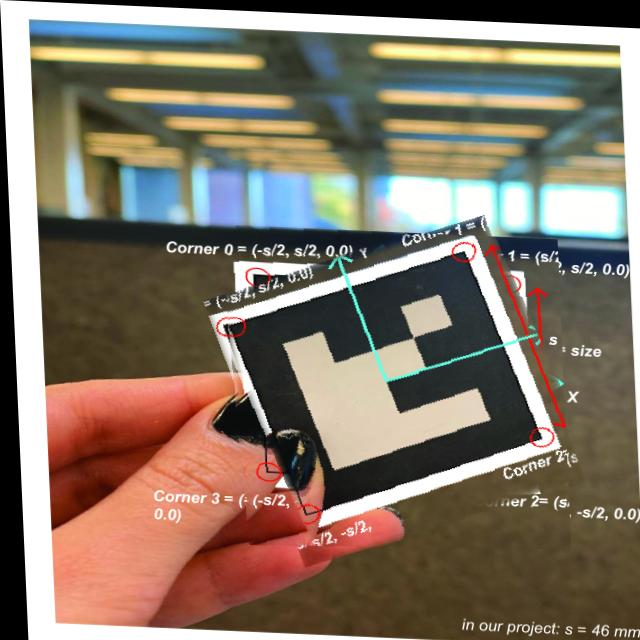aruco: (217, 222, 567, 554)
